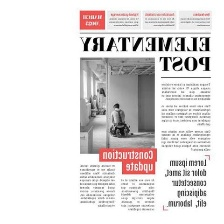news_paper: (77, 6, 215, 213)
